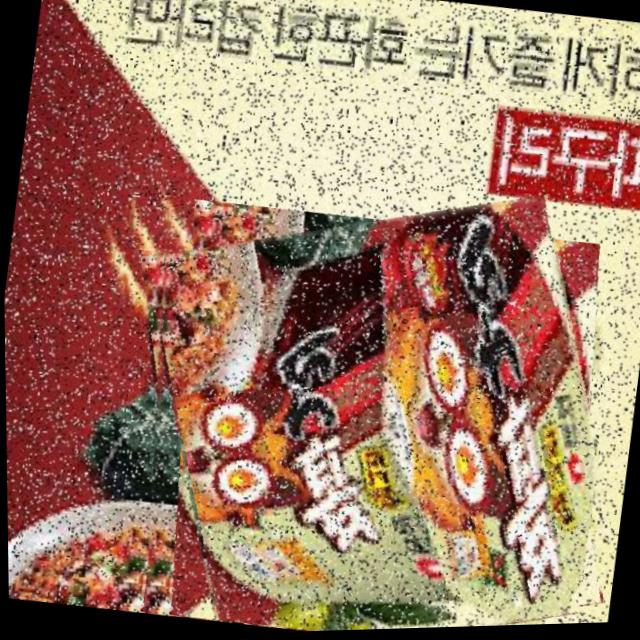Miscellaneous: (109, 165, 630, 638)
